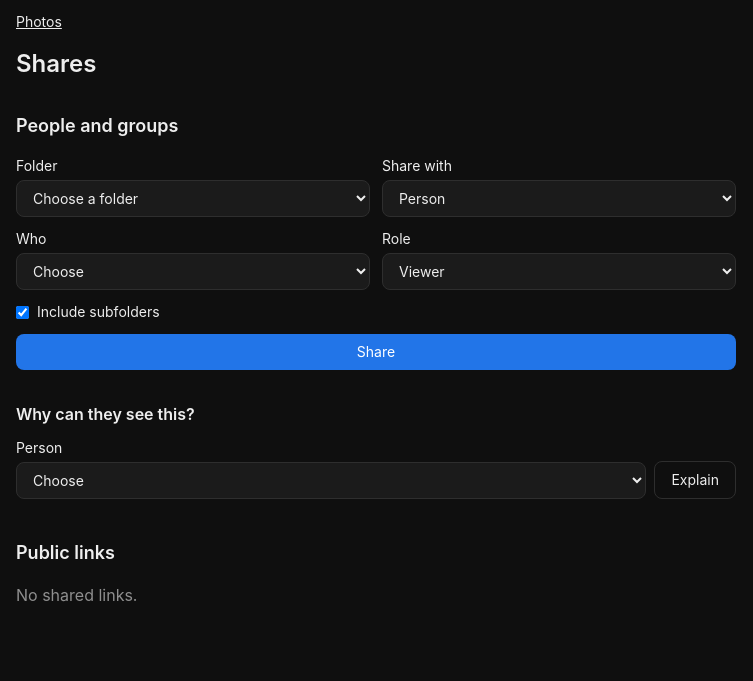
Scenario: SharesView › dopo il grant, Bob compare nell’elenco dei permessi diretti
This screenshot has width=753, height=681.
Select "Vacanze" in the dropdown with test id "shares-folder": (193, 198) x1=16 y1=180 x2=370 y2=217
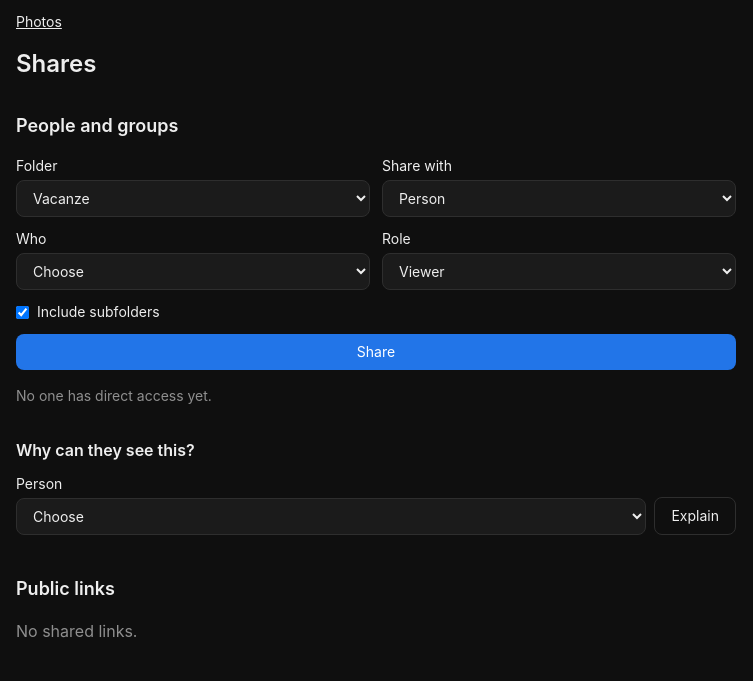
Select "Bob" in the dropdown with test id "shares-subject": (193, 272) x1=16 y1=253 x2=370 y2=290
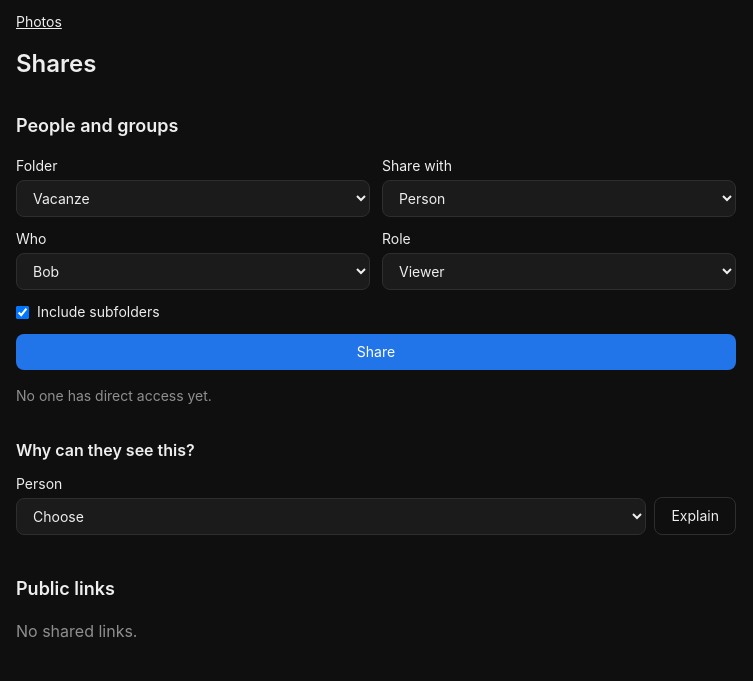
Click the button with test id "shares-grant": (376, 352) x1=16 y1=334 x2=736 y2=370
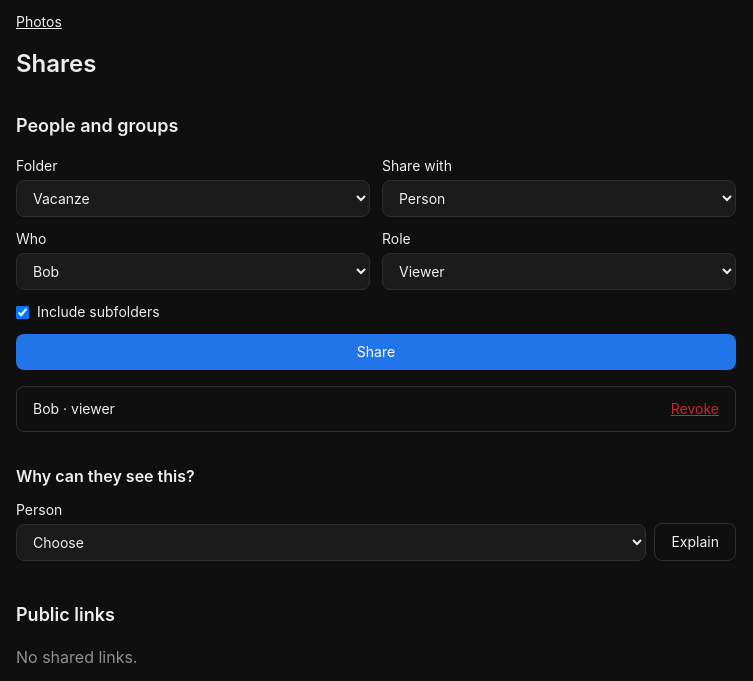
Now the list with test id "shares-grants" shows "Bob", box x1=33 y1=400 x2=115 y2=417
Now the list with test id "shares-grants" shows "viewer", box x1=33 y1=400 x2=115 y2=417
